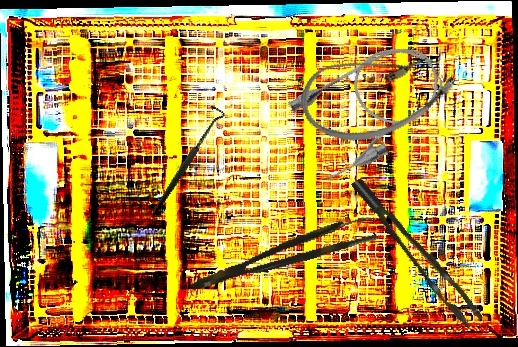Cannula: (280, 28, 460, 189), (291, 23, 465, 160)
Hook Surgical: (119, 101, 252, 217)
Tissue Forceps: (350, 163, 484, 339), (185, 213, 379, 293)
